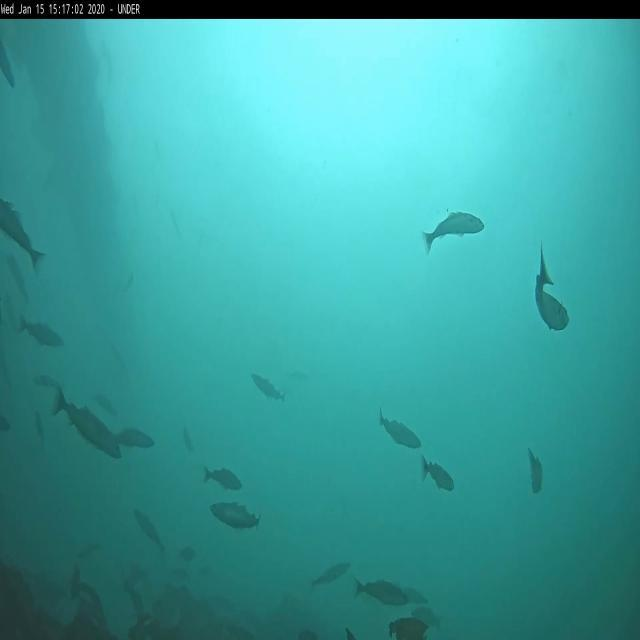fish: (54, 391, 121, 458), (0, 199, 44, 276), (534, 247, 570, 330), (424, 209, 482, 251), (378, 407, 422, 450), (208, 502, 260, 532), (134, 510, 166, 555), (354, 578, 407, 604), (21, 318, 64, 347), (422, 453, 454, 491), (7, 257, 30, 302), (250, 373, 285, 402), (202, 467, 244, 490), (312, 564, 349, 588), (115, 429, 156, 449), (0, 43, 16, 91), (529, 450, 542, 490), (34, 374, 62, 390), (182, 419, 194, 452), (405, 589, 428, 606), (36, 406, 44, 439)
